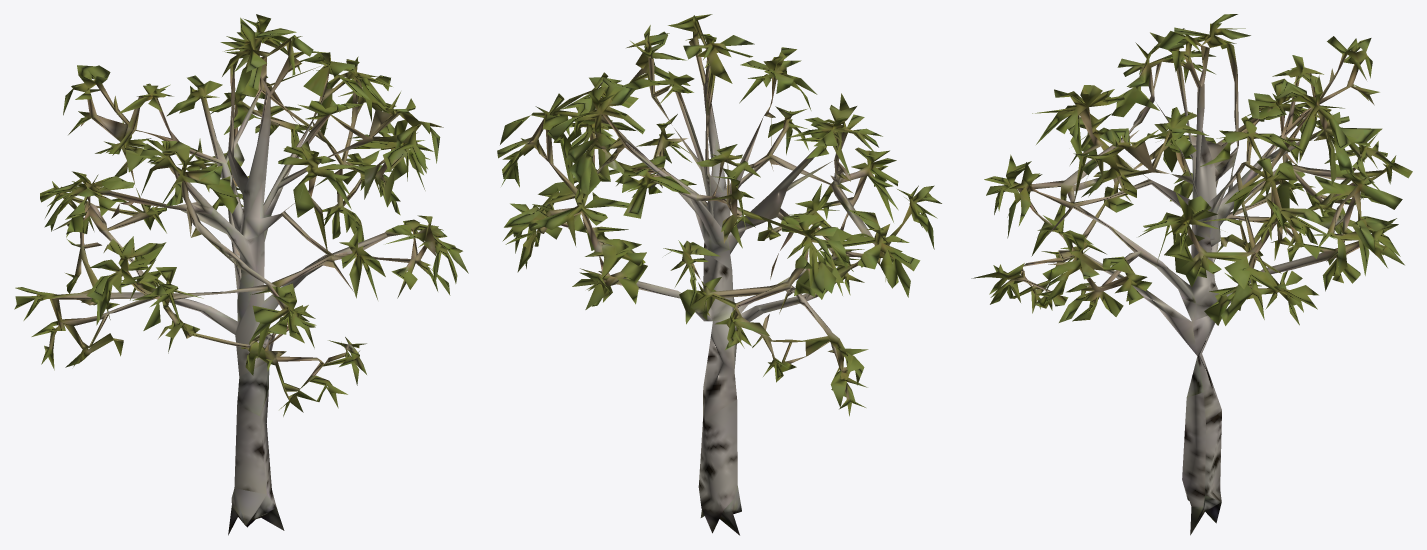
The model's file is tree-birch.glb.
The picture shows the model from 3 angles, left to right: view 1: azimuth 30°, elevation 25°; view 2: azimuth 150°, elevation 25°; view 3: azimuth 270°, elevation 25°; orthographic projection. The views are drawn at different scales.
Parts seen in each view (by area): view 1: tripo_node_48dfd46a-372b-4ba2-a67f-906539743e89; view 2: tripo_node_48dfd46a-372b-4ba2-a67f-906539743e89; view 3: tripo_node_48dfd46a-372b-4ba2-a67f-906539743e89.
Part boxes in pixels (x1,y1,x2,y2): tripo_node_48dfd46a-372b-4ba2-a67f-906539743e89: (14,14,468,535); tripo_node_48dfd46a-372b-4ba2-a67f-906539743e89: (497,14,941,535); tripo_node_48dfd46a-372b-4ba2-a67f-906539743e89: (971,14,1412,535).
Size of the model in its own units: 0.7624 by 0.9873 by 0.7727.
1 material, 1 textured.
